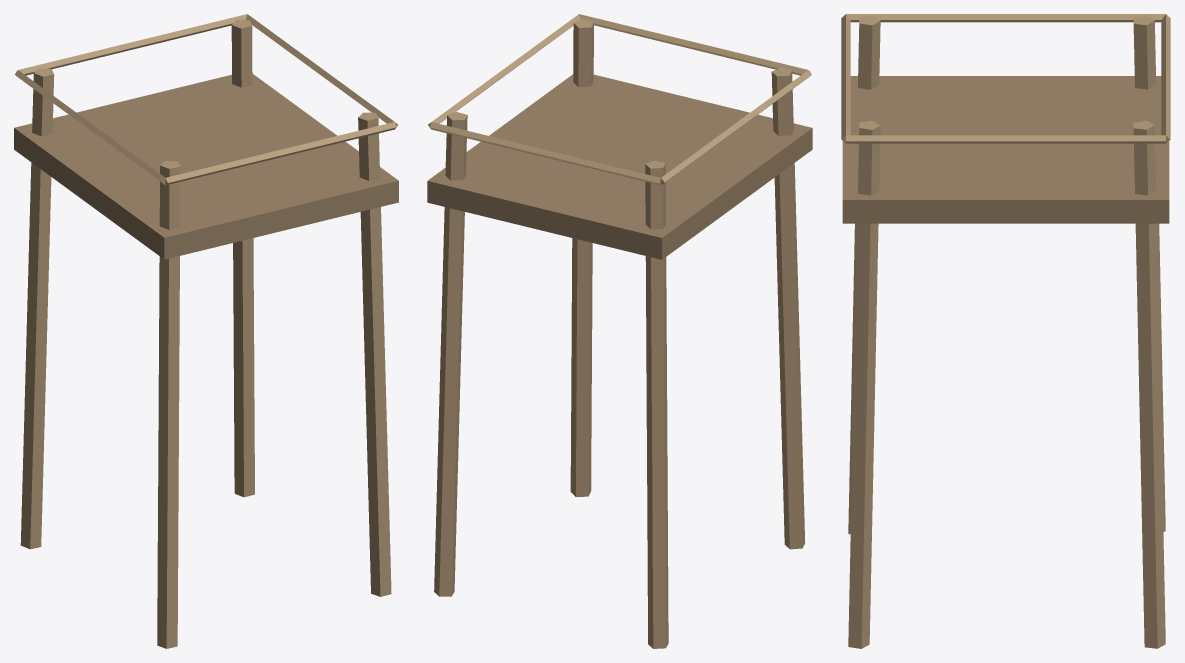
3 views of the same model, side by side, from view 1: azimuth 30°, elevation 25°; view 2: azimuth 150°, elevation 25°; view 3: azimuth 270°, elevation 25° (orthographic). The views are drawn at different scales.
Visible parts, largest first — view 1: body; view 2: body; view 3: body.
Boxes of the visible parts, <box> form: body: <box>14,14,398,648</box>; body: <box>427,14,812,648</box>; body: <box>841,14,1170,648</box>.
Bounding box in the file's own units: 4.54 × 8.71 × 5.04.
